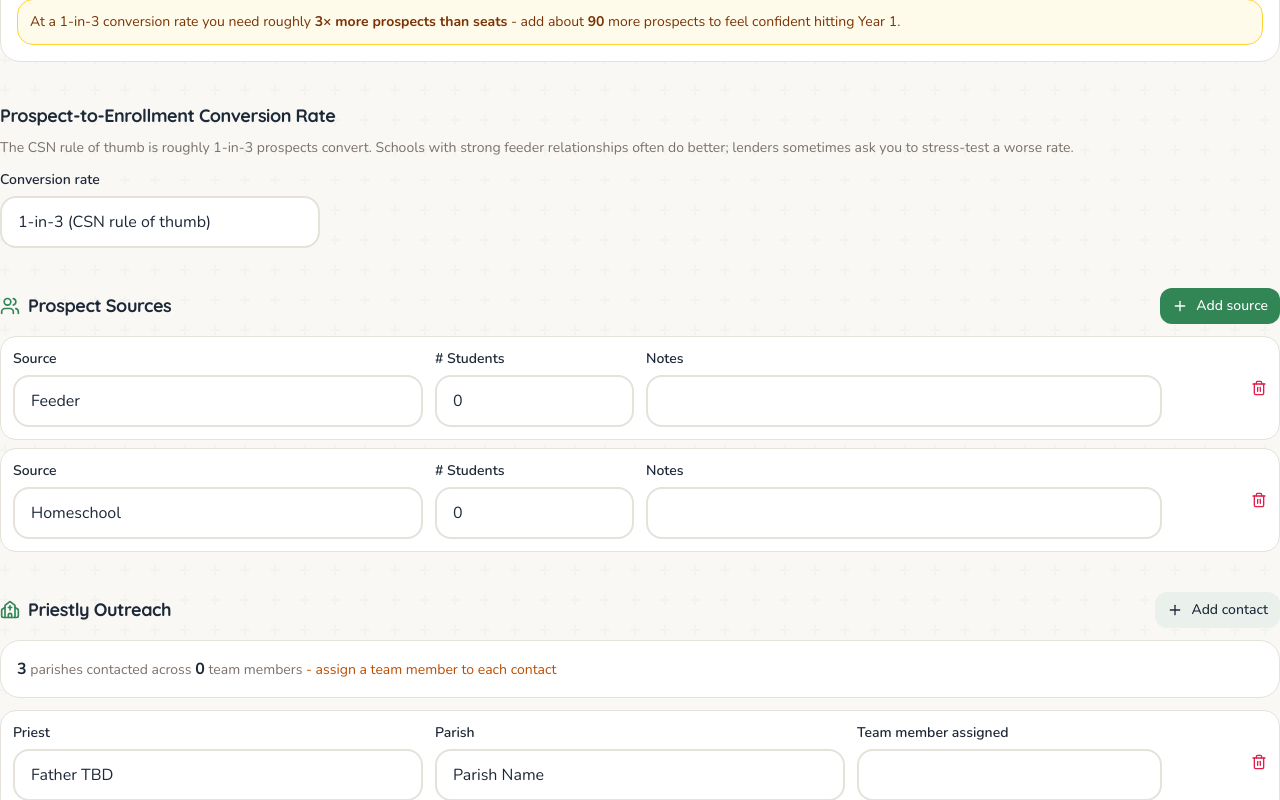
Chesterton wizard step summaries › recruiting step updates Total prospects + coverage live as the user types
(page scrolled)
Replace the text in the 1st number field labelled "# Students" with "60" at (534, 400), box x1=435 y1=374 x2=634 y2=426
(page scrolled)
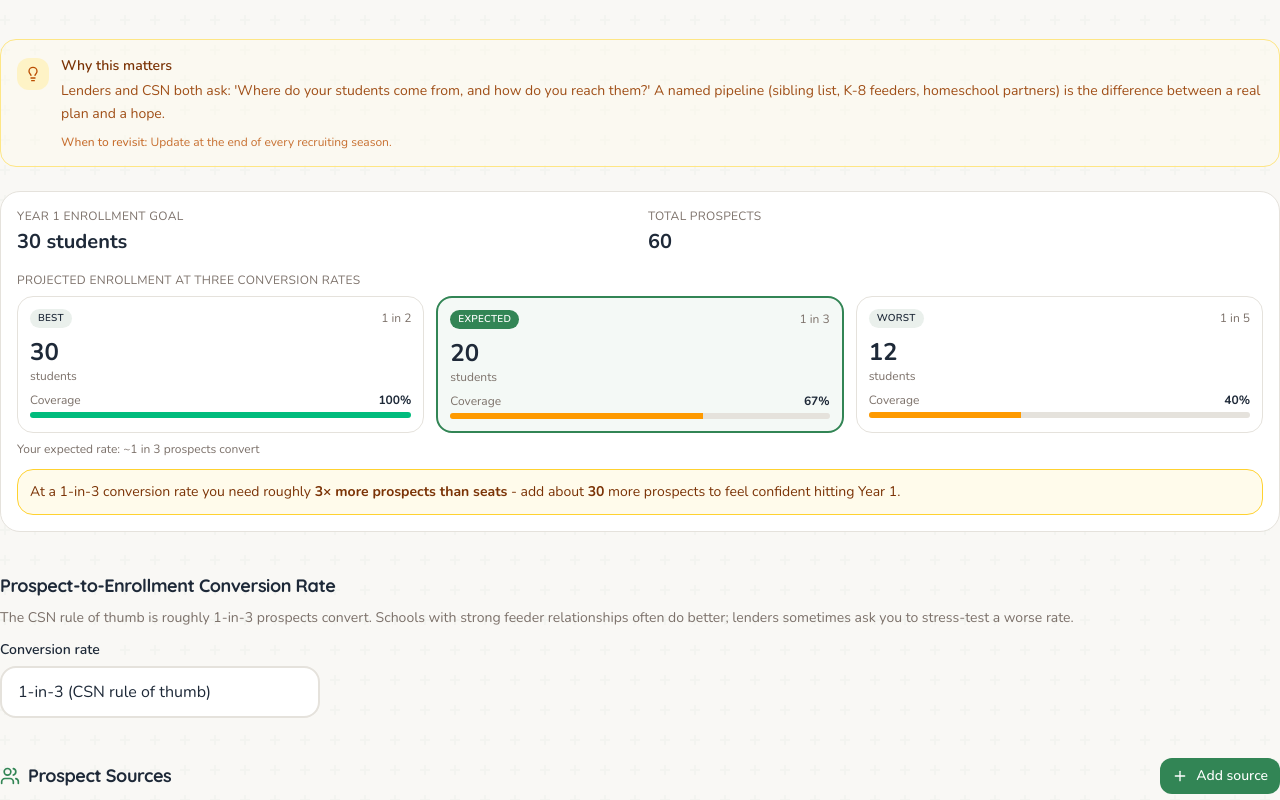
Now the text with test id "chesterton-recruiting-total-prospects" reads "60", box x1=648 y1=228 x2=672 y2=254
Now the text with test id "chesterton-recruiting-projected" reads "20", box x1=450 y1=336 x2=479 y2=368
Now the text with test id "chesterton-recruiting-coverage-pct" reads "67%", box x1=804 y1=392 x2=830 y2=408
